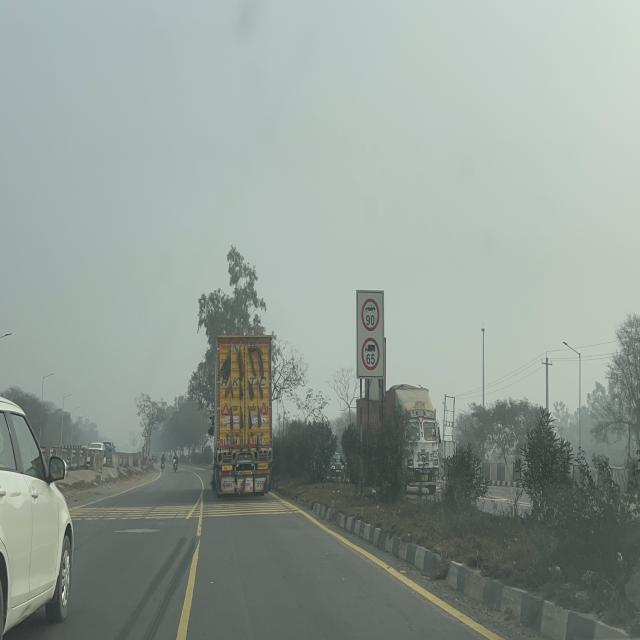ROAD_WIDENS_AHEAD: (142, 428, 148, 438)
